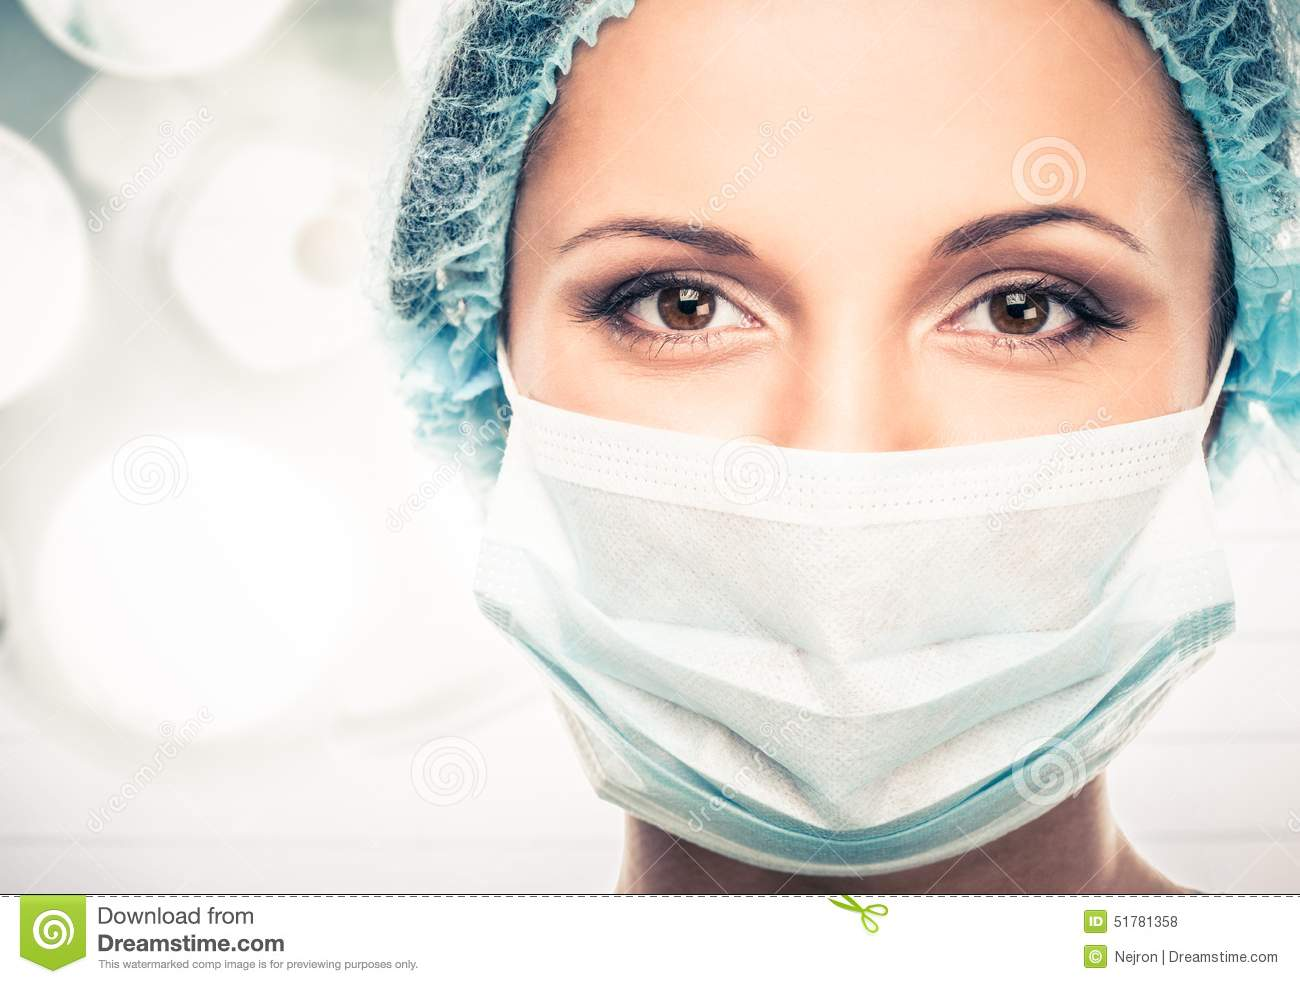mask: (469, 380, 1255, 842)
